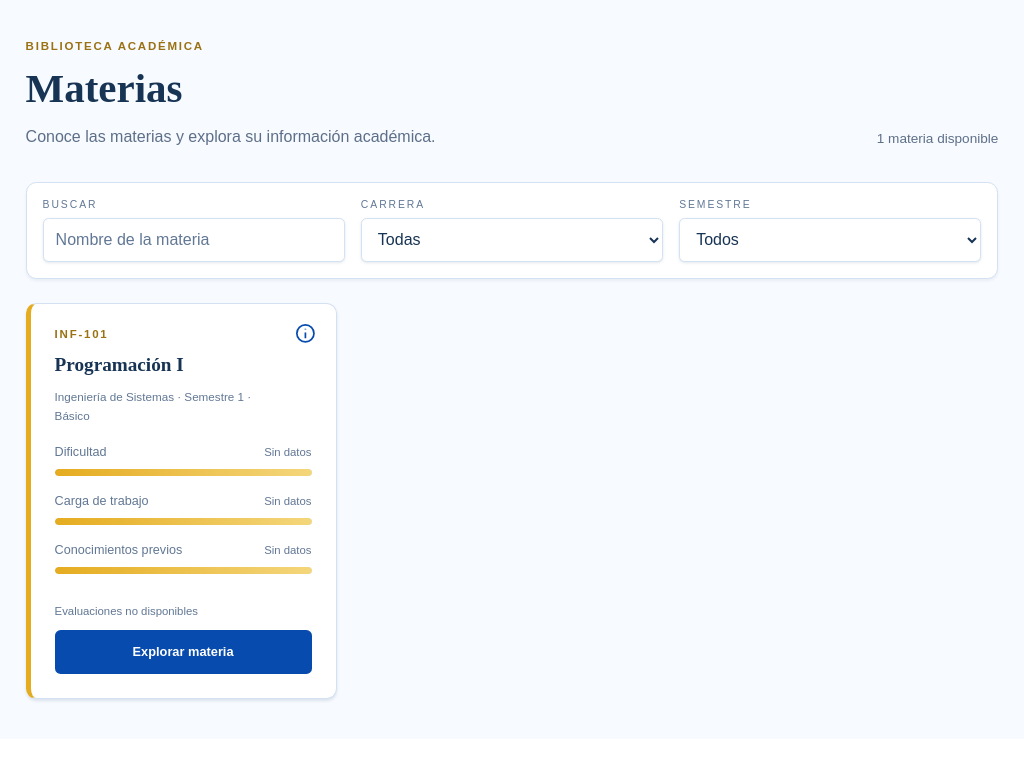
Test: HU-04: visualizar información de una materia › informa cuando faltan textos (null), sin usar la puntuación como recomendación
Click the button named "Ver información de la materia: Programación I": (306, 334) [284,312,328,356]
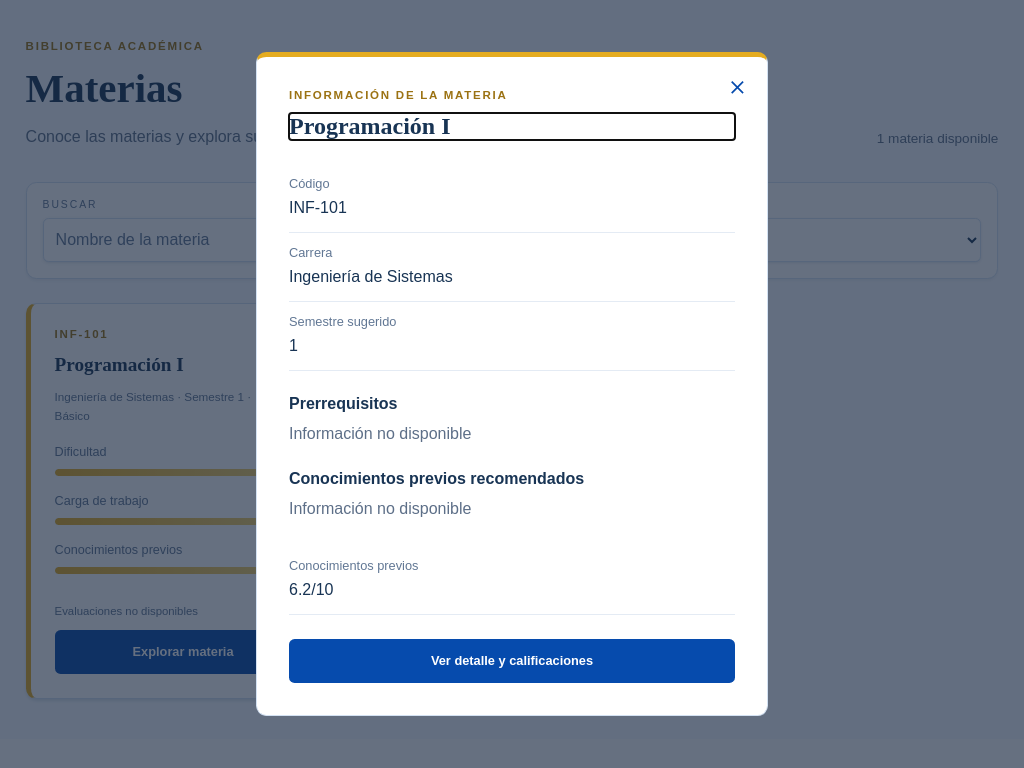
Expected: the dialog shows "6.2/10", [289,581,334,598]
